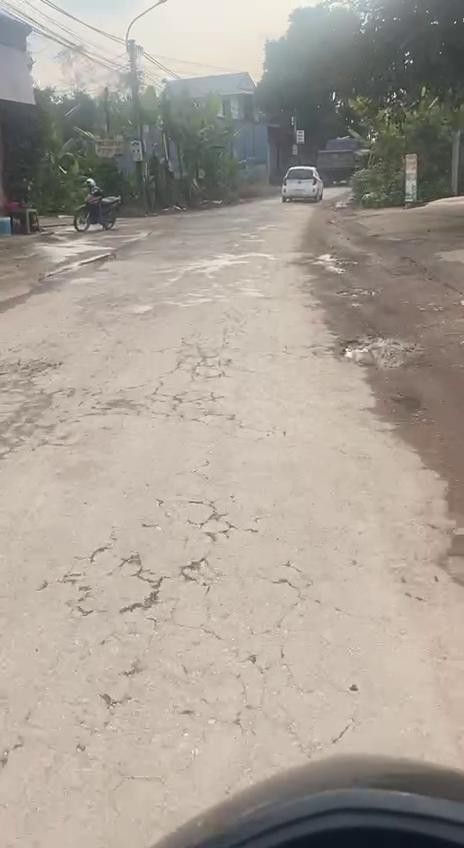pothole: (431, 478, 464, 589), (342, 328, 423, 373), (388, 388, 424, 423), (320, 249, 354, 276), (84, 252, 118, 268)
